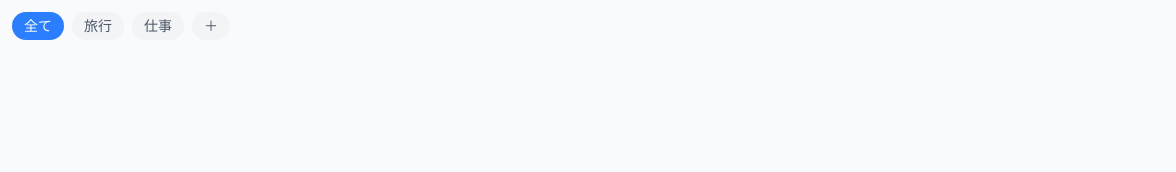
Test: CategoryTabs › エラー表示後に入力を変更するとエラーが消える
This screenshot has width=1176, height=172.
Click the button "＋" at (211, 26), box [192,12,230,40]
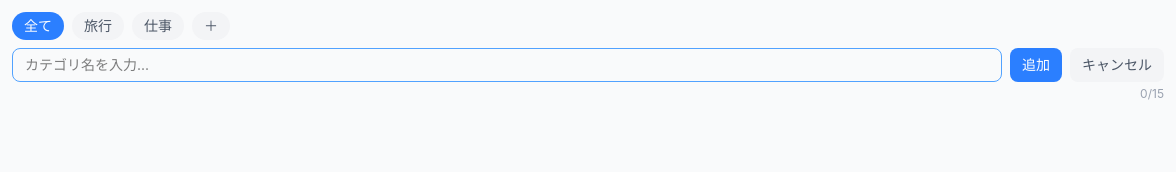
Type "旅行" into the field with placeholder "カテゴリ名を入力..." at (507, 65), box [12,48,1002,82]
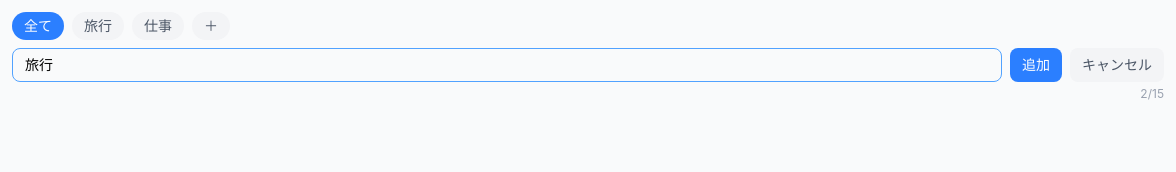
Click the button "追加" at (1036, 65), box [1010,48,1062,82]
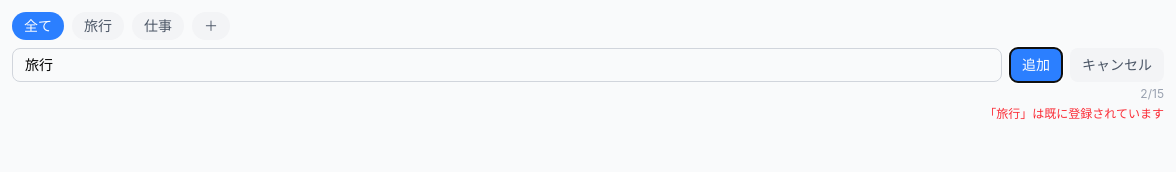
Now the text "「旅行」は既に登録されています" is shown, box [984,106,1164,121]
Type "X" into the field with placeholder "カテゴリ名を入力..." at (507, 65), box [12,48,1002,82]
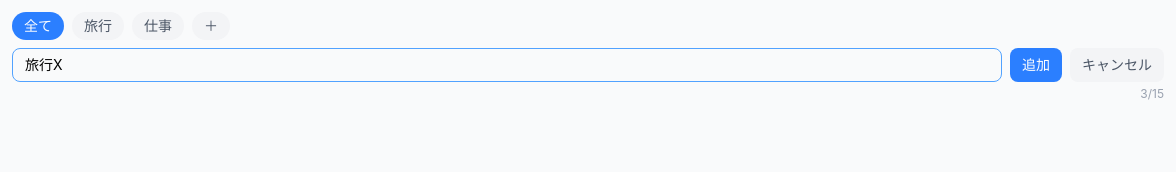
Now the text "「旅行」は既に登録されています" is gone
